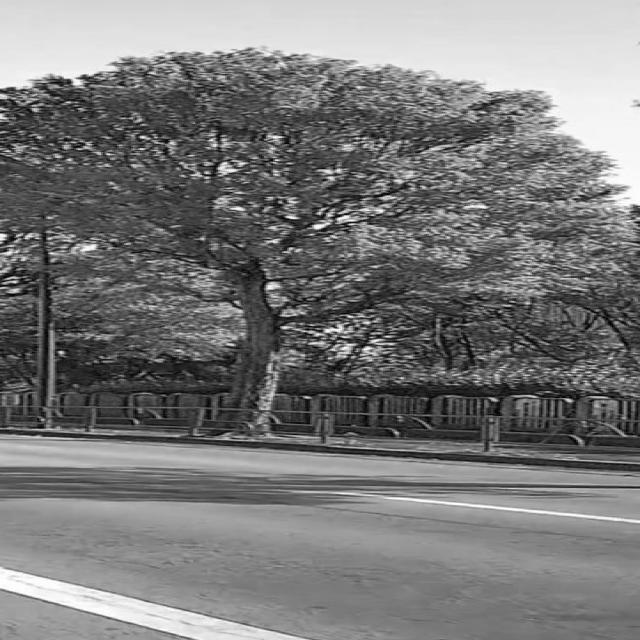maple: (0, 46, 640, 440)
